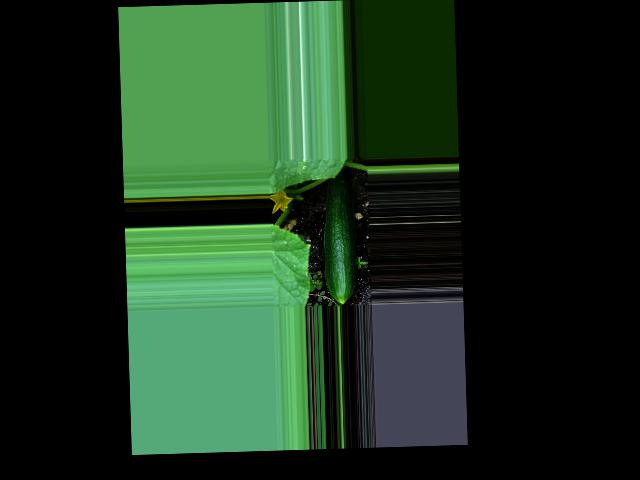cucumber: (321, 170, 359, 305)
